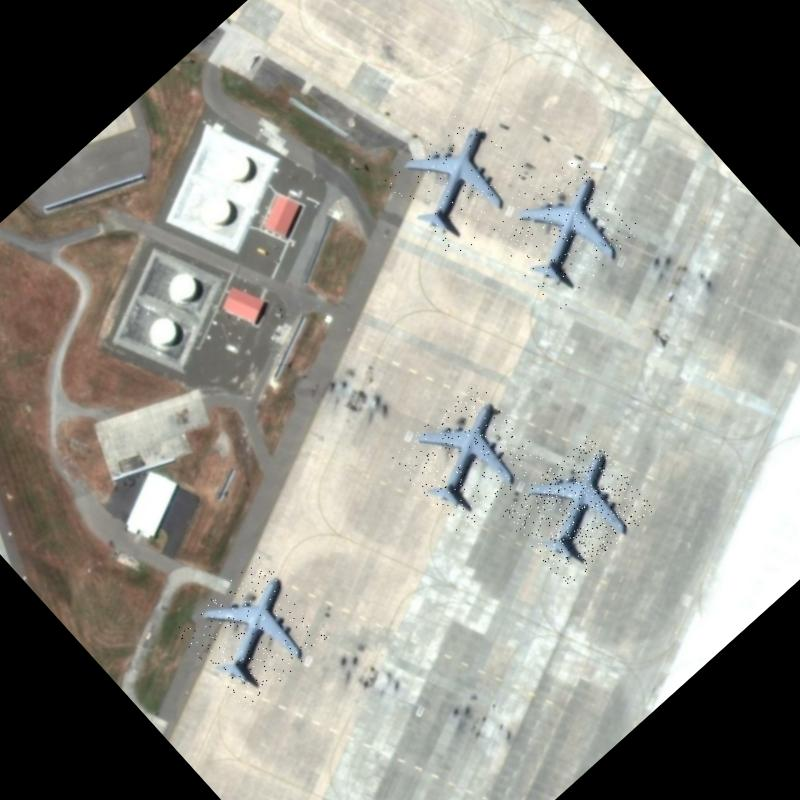A4: (379, 102, 539, 262), (172, 553, 331, 712), (486, 155, 646, 313), (389, 379, 546, 535), (500, 432, 656, 588)
